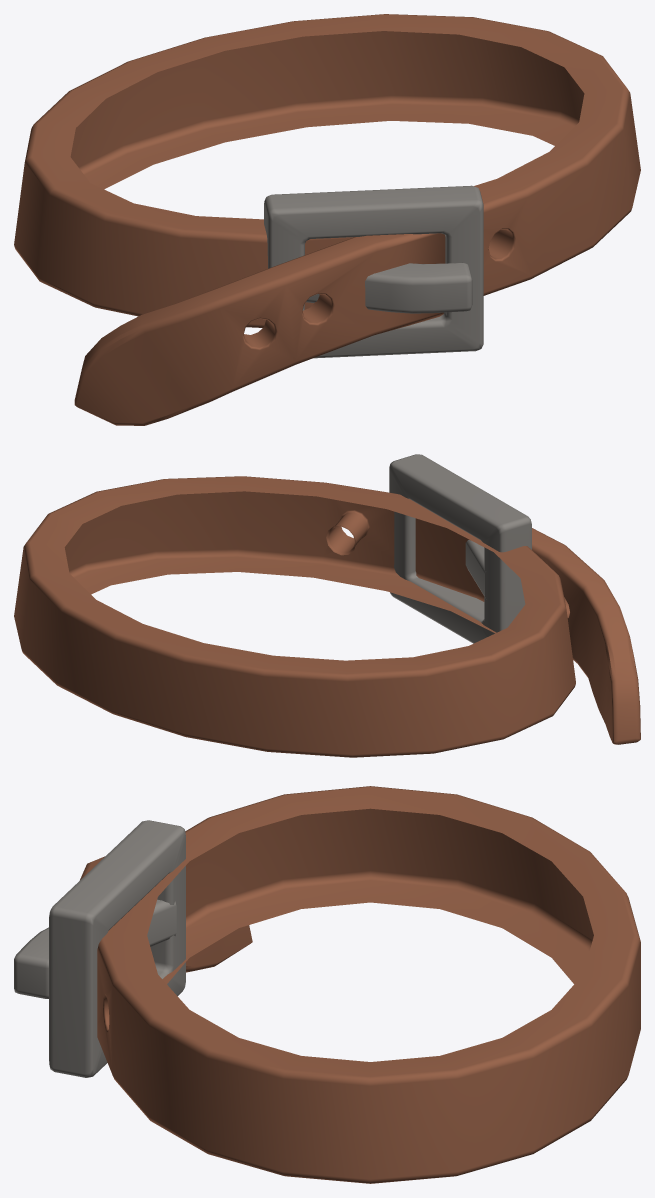
File: Belt01_mesh.fbx
3 views of the same model, one above another, from view 1: azimuth 30°, elevation 25°; view 2: azimuth 150°, elevation 25°; view 3: azimuth 270°, elevation 25° (orthographic). The views are drawn at different scales.
Visible parts, largest first — view 1: Belt_01; view 2: Belt_01; view 3: Belt_01.
Part boxes in pixels (x1,y1,x2,y2): Belt_01: (14, 14, 640, 425); Belt_01: (14, 454, 640, 757); Belt_01: (14, 786, 640, 1183).
Size of the model in its own units: 31.6 by 9.82 by 25.79.
